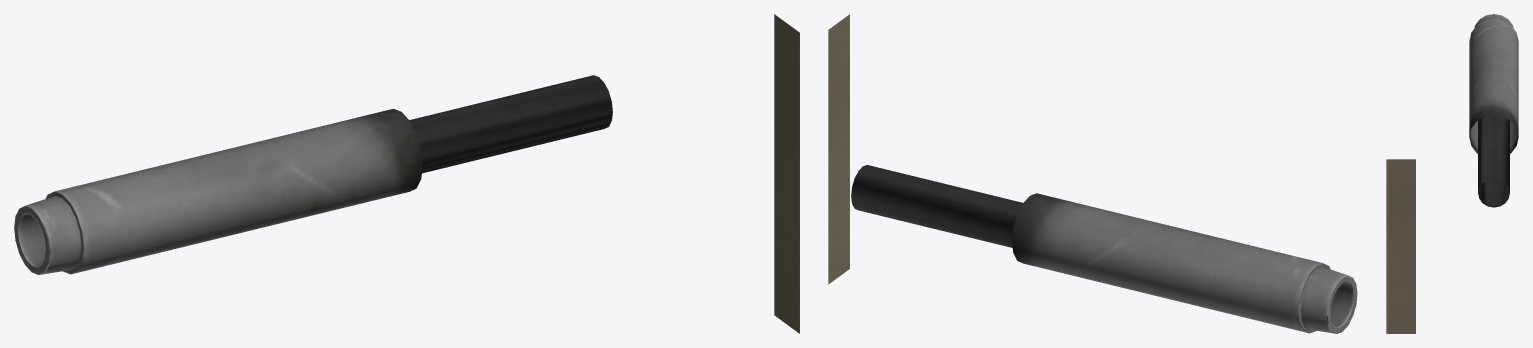
The model's file is Gun3.fbx.
The picture shows the model from 3 angles, left to right: view 1: azimuth 30°, elevation 25°; view 2: azimuth 150°, elevation 25°; view 3: azimuth 270°, elevation 25°; orthographic projection. The views are drawn at different scales.
Parts seen in each view (by area): view 1: Gun3; view 2: Gun3; view 3: Gun3.
Boxes of the visible parts, x1,y1,x2,y2 form: Gun3: (14, 14, 799, 333); Gun3: (828, 14, 1357, 333); Gun3: (1386, 14, 1518, 333).
Bounding box in the file's own units: 127 × 54.15 × 37.17.
